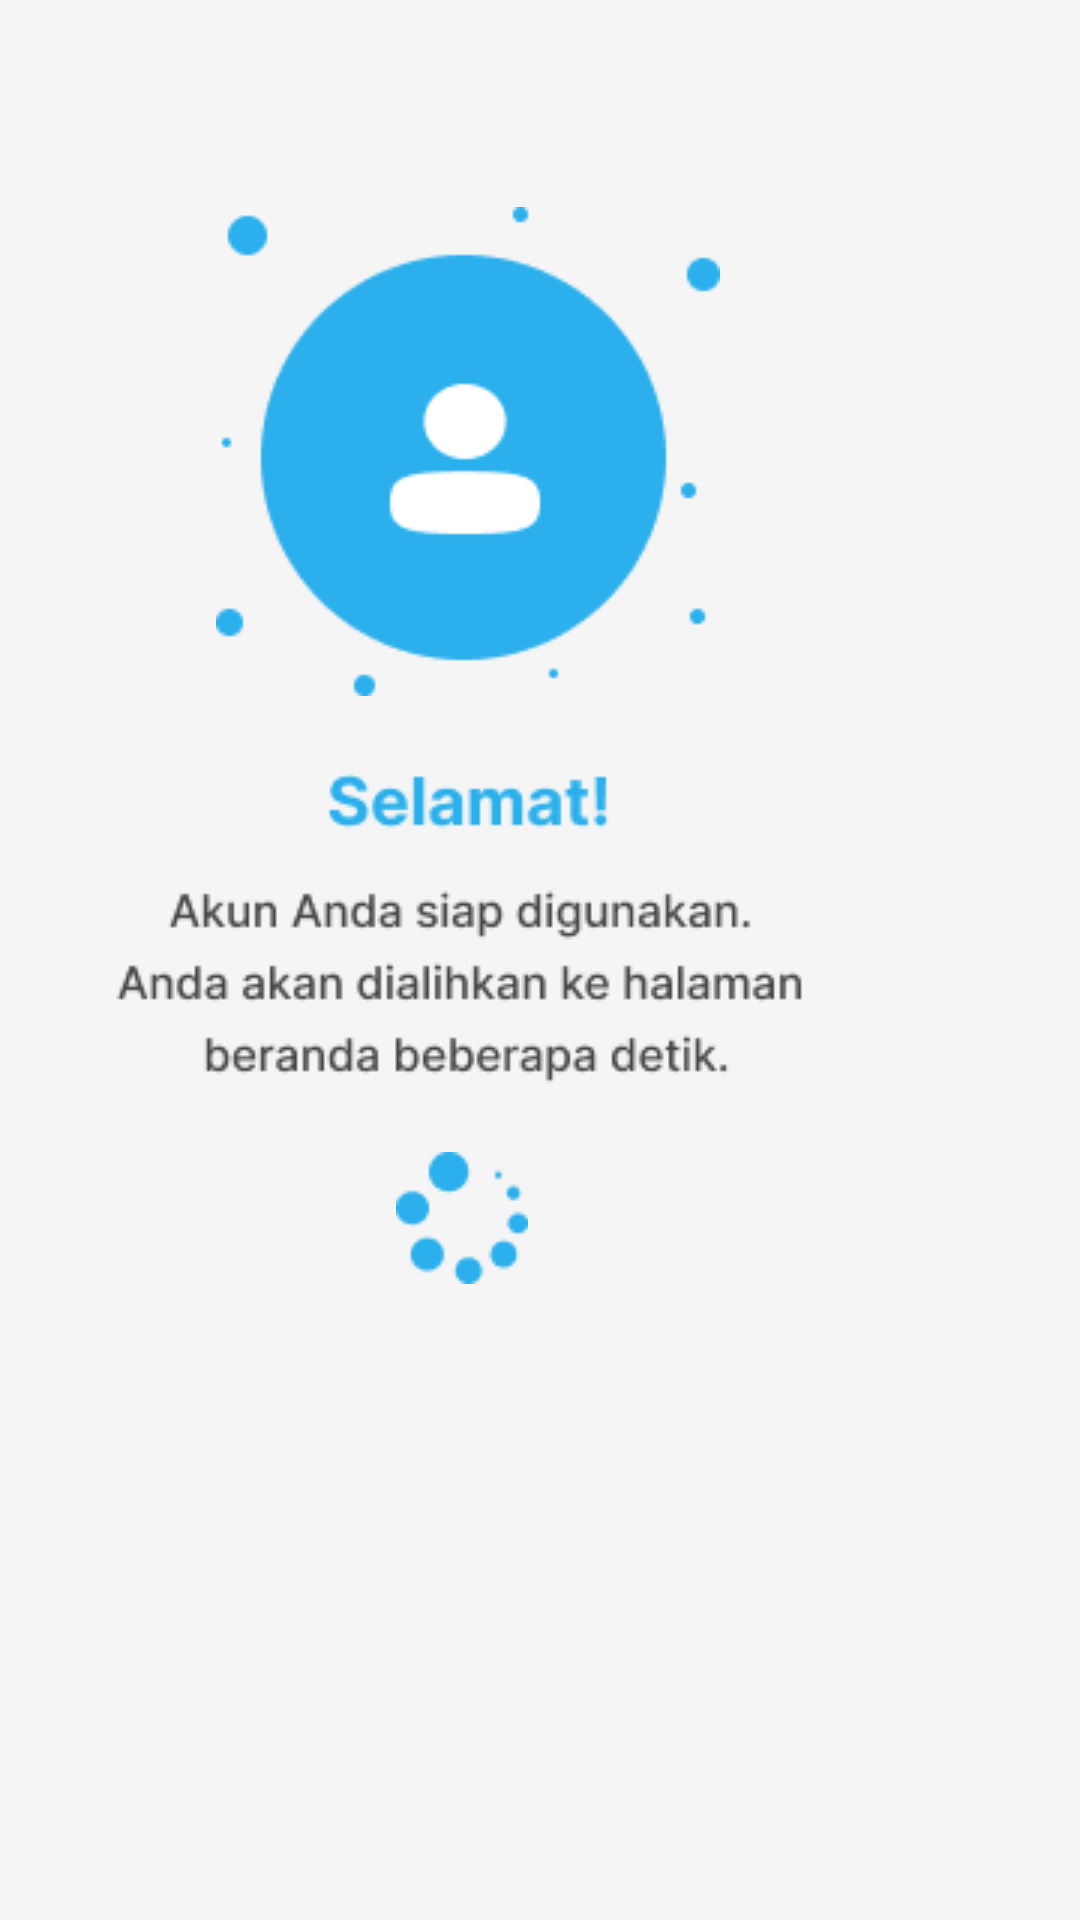

Point at icon controls on the screen. Image size 1080 × 1920, points as (x=x, y=y).
uiw loading: (x=462, y=1218)
